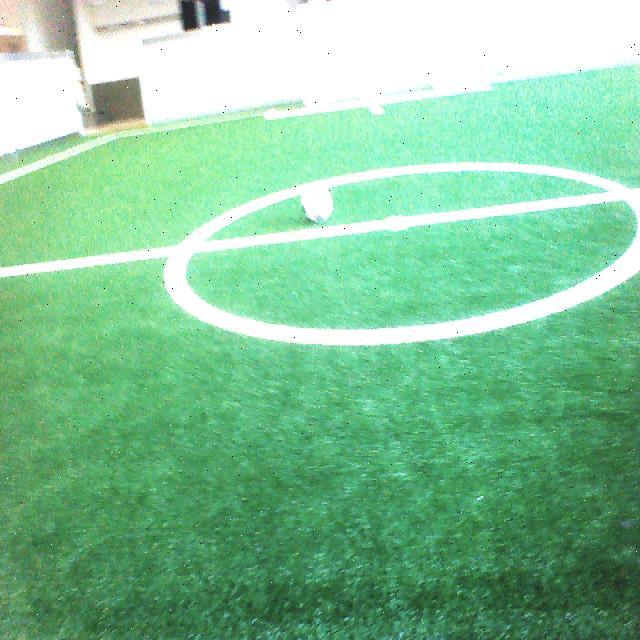ball: (299, 182, 338, 226)
